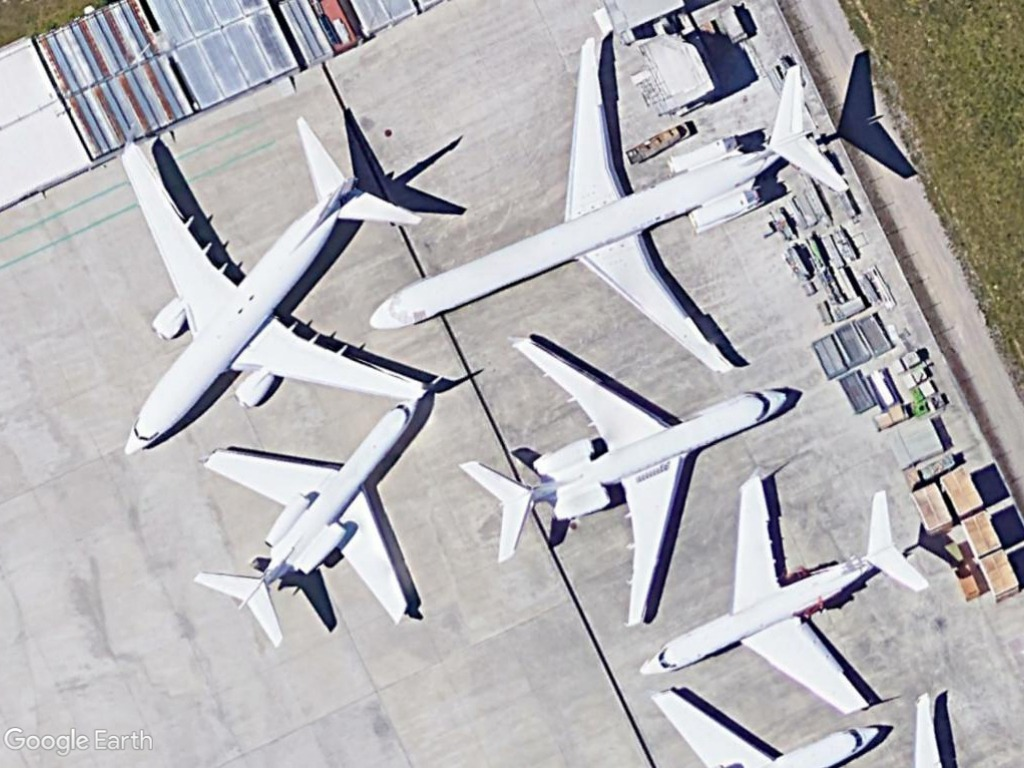airliner: (112, 111, 438, 459), (635, 467, 933, 717)
chartered: (363, 31, 852, 380), (456, 336, 793, 627), (186, 394, 429, 646)
